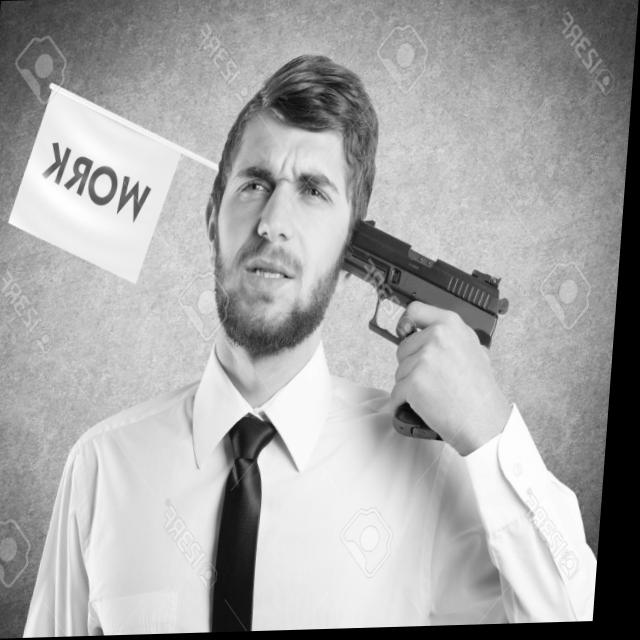handgun: (338, 213, 520, 452)
